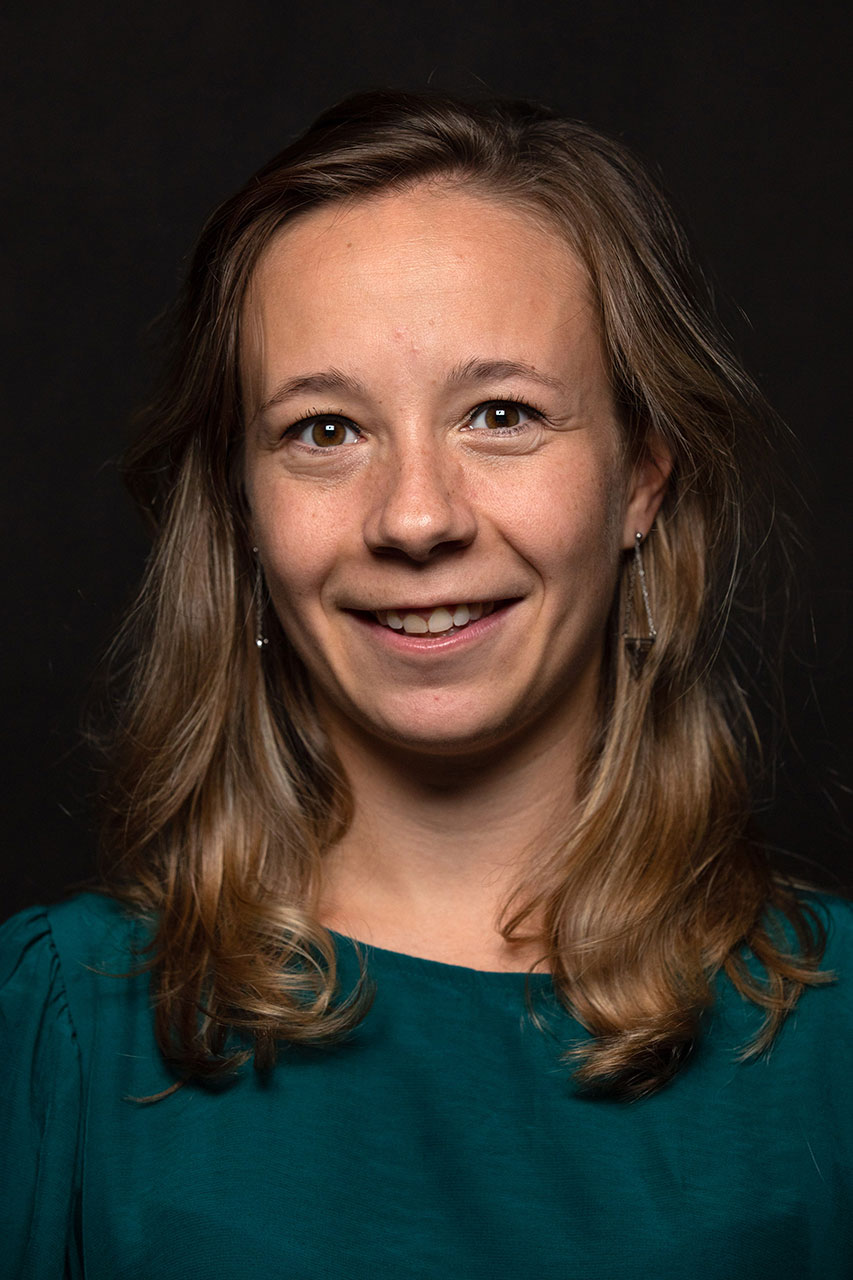Without Helmet: (152, 106, 693, 1005)
